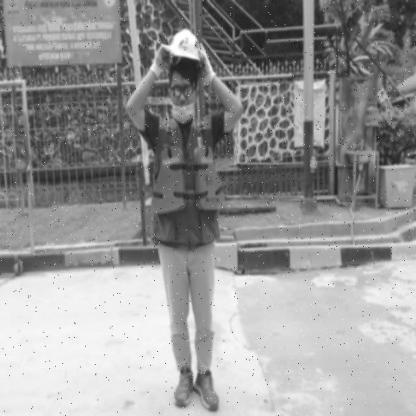boots: (194, 368, 219, 413), (173, 364, 194, 408)
gloves: (149, 44, 171, 78), (200, 43, 214, 87)
goggles: (171, 82, 195, 96)
helmet: (169, 28, 202, 62)
mask: (171, 104, 195, 125)
vest: (150, 145, 226, 211)
